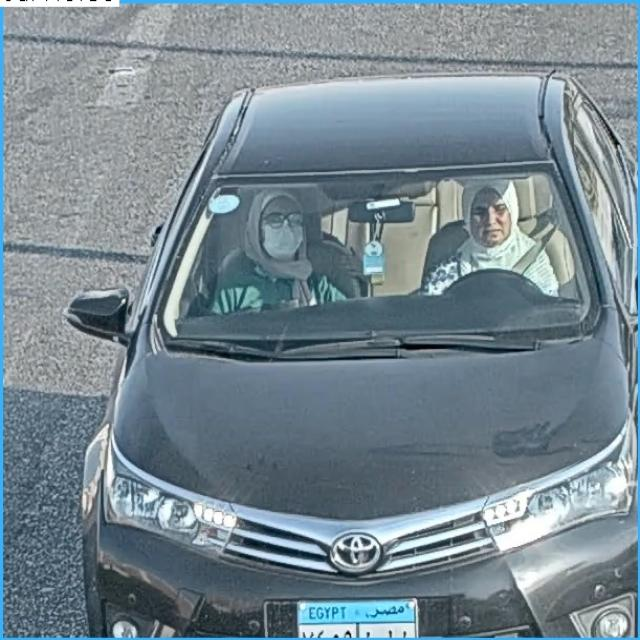windshield: (151, 175, 603, 338)
